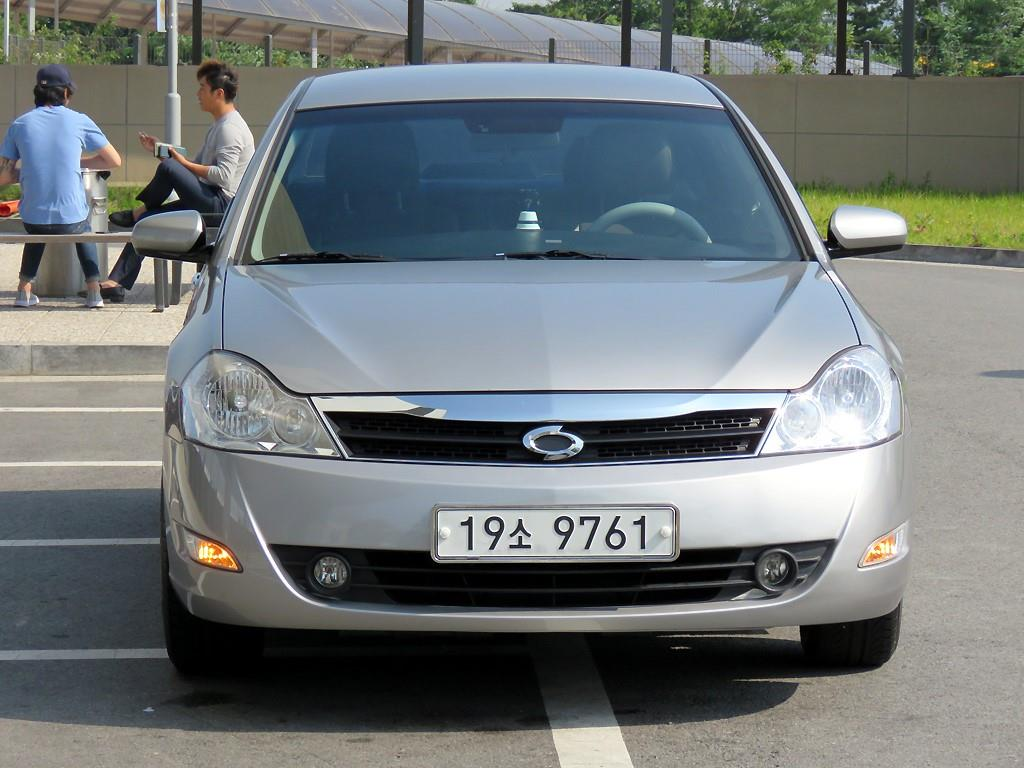plate: (438, 509, 672, 555)
